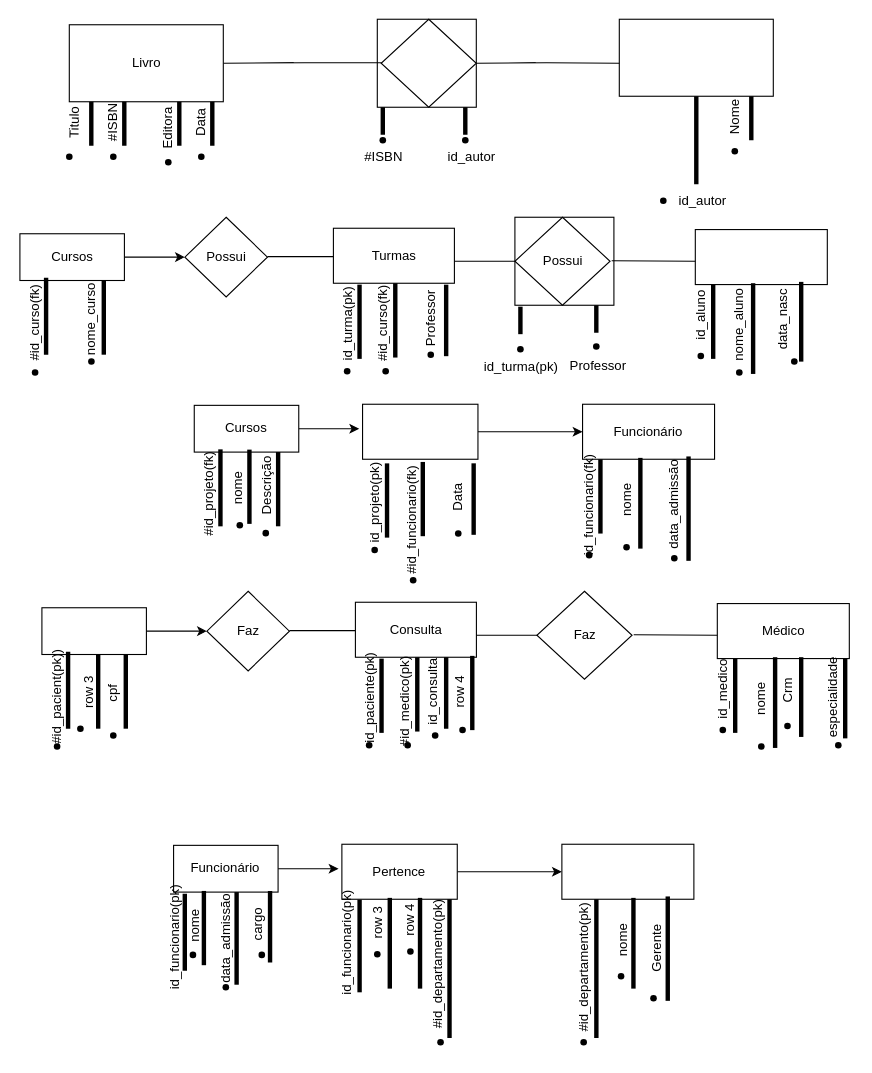
This 872x1073 diagram has some shape labels left out. Each missing label, with the box of its shape:
Alunos: (694, 228, 827, 285)
Autor: (618, 18, 773, 96)
Departamento: (561, 843, 694, 899)
Escrito: (380, 18, 476, 107)
Paciente: (41, 607, 146, 654)
Realizado: (361, 403, 478, 459)
